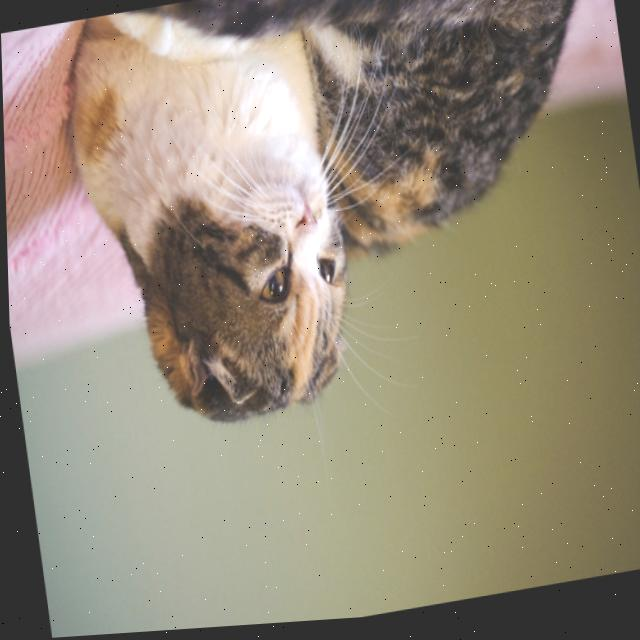Scottish Fold: (50, 0, 635, 455)
